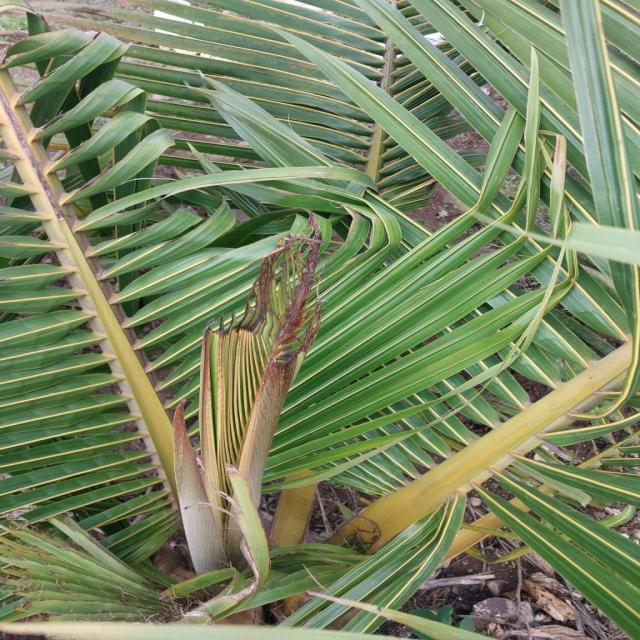bud rot: (173, 216, 322, 574)
